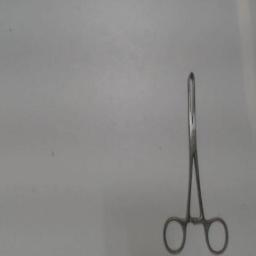Allis Tissue Forceps: (160, 63, 232, 255)
